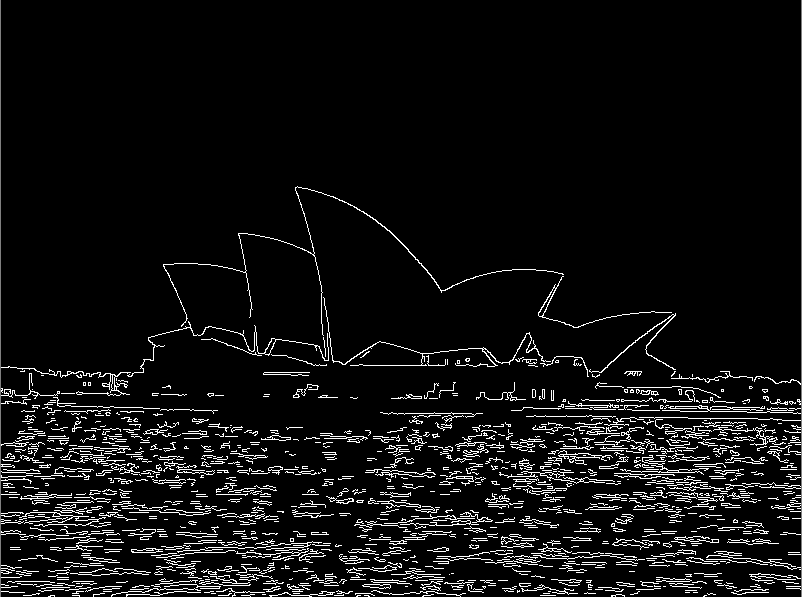opera house: (119, 161, 688, 385)
